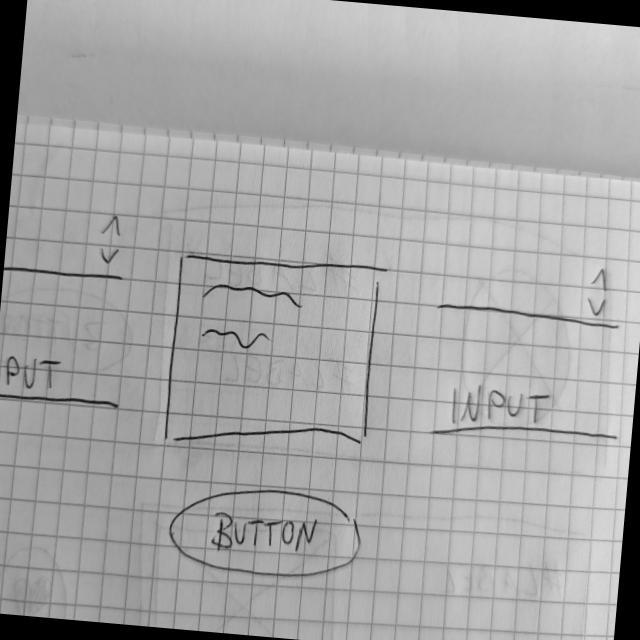button: (162, 478, 368, 584)
input: (427, 370, 625, 454), (0, 342, 127, 419)
number-input: (430, 244, 628, 334), (2, 200, 130, 292)
textarea: (161, 245, 386, 462)
